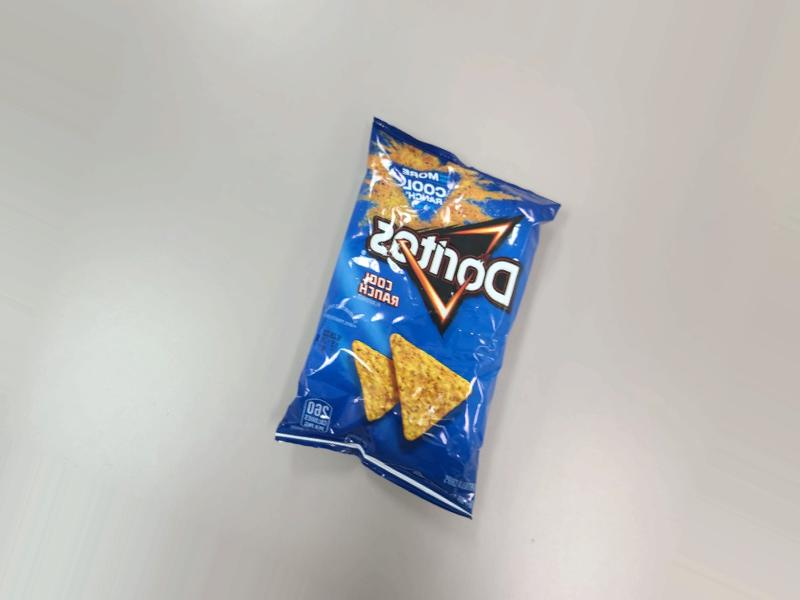doritos: (280, 124, 544, 519)
